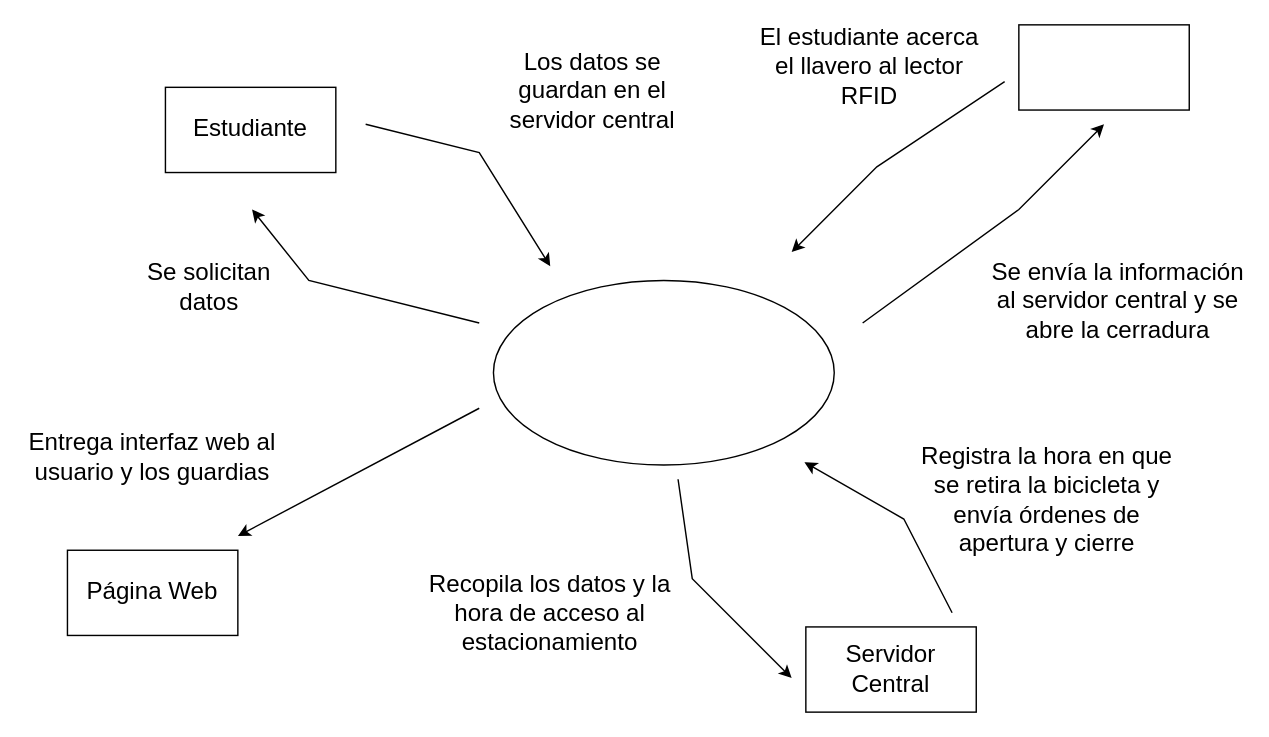
Some shapes in this 1269 by 737 pixel diagram are drawn without their labels. Each missing label, with the box of its shape:
Estacionamiento de bicicletas en la USM: (492, 279, 834, 465)
Llavero: (1017, 23, 1189, 110)
